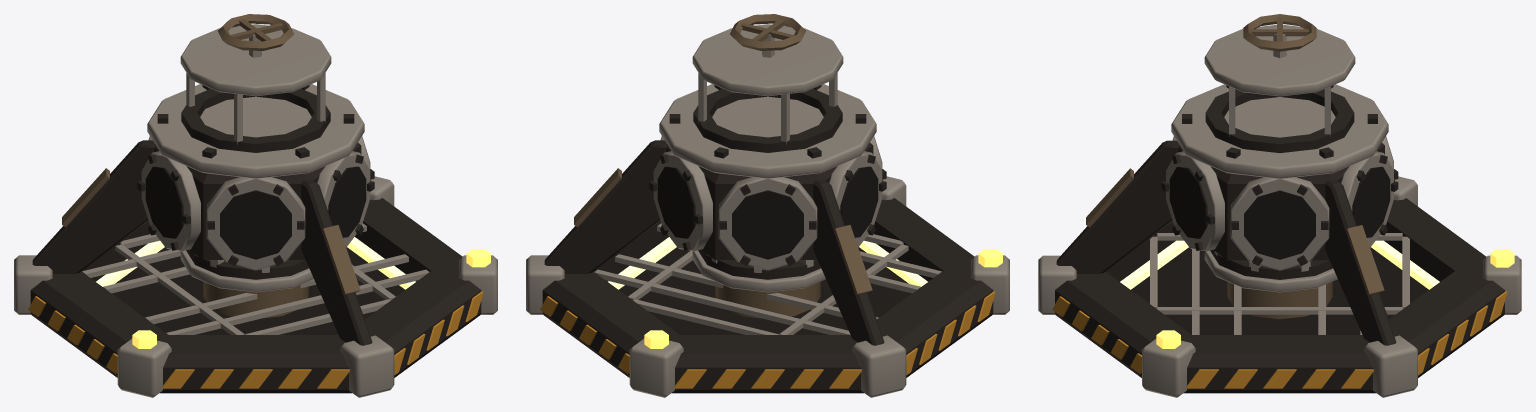
Rendered from fac_ptunnel.glb.
The picture shows the model from 3 angles, left to right: view 1: azimuth 30°, elevation 25°; view 2: azimuth 150°, elevation 25°; view 3: azimuth 270°, elevation 25°; orthographic projection.
Visible parts, largest first — view 1: body; view 2: body; view 3: body.
Part boxes in pixels (x1,y1,x2,y2): body: (14,14,497,397); body: (526,14,1009,397); body: (1038,14,1521,397).
Size of the model in its own units: 1.25 by 0.88 by 1.38.
